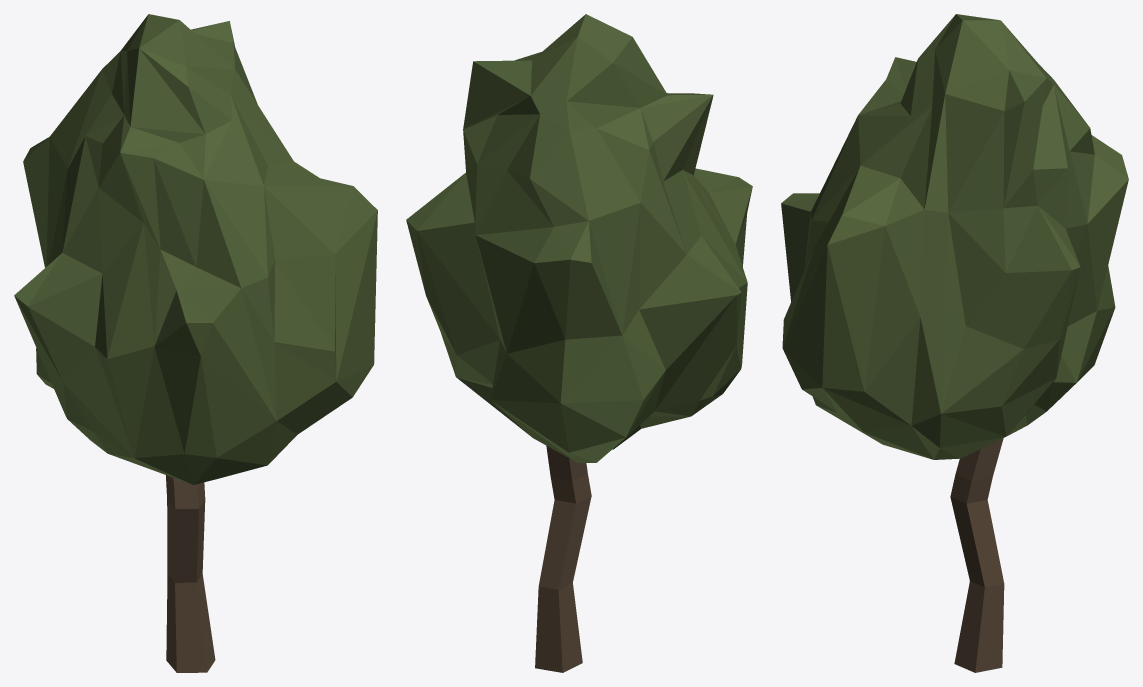
The model's file is Tree_101.fbx.
3 views of the same model, side by side, from view 1: azimuth 30°, elevation 25°; view 2: azimuth 150°, elevation 25°; view 3: azimuth 270°, elevation 25° (orthographic). The views are drawn at different scales.
Visible parts, largest first — view 1: Tree_101; view 2: Tree_101; view 3: Tree_101.
Part boxes in pixels (x1,y1,x2,y2): Tree_101: (14, 14, 377, 672); Tree_101: (406, 14, 752, 672); Tree_101: (781, 14, 1128, 672).
Bounding box in the file's own units: 0.5075 × 1.07 × 0.5322.
Materials: 1 (1 with a texture image).
